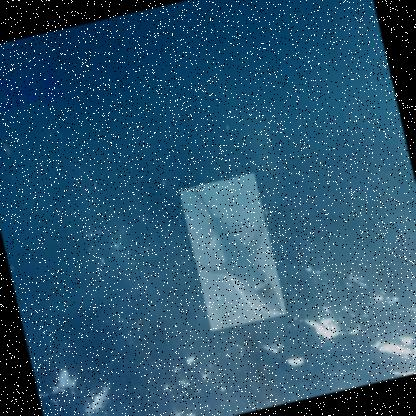mako-shark: (178, 171, 286, 330)
